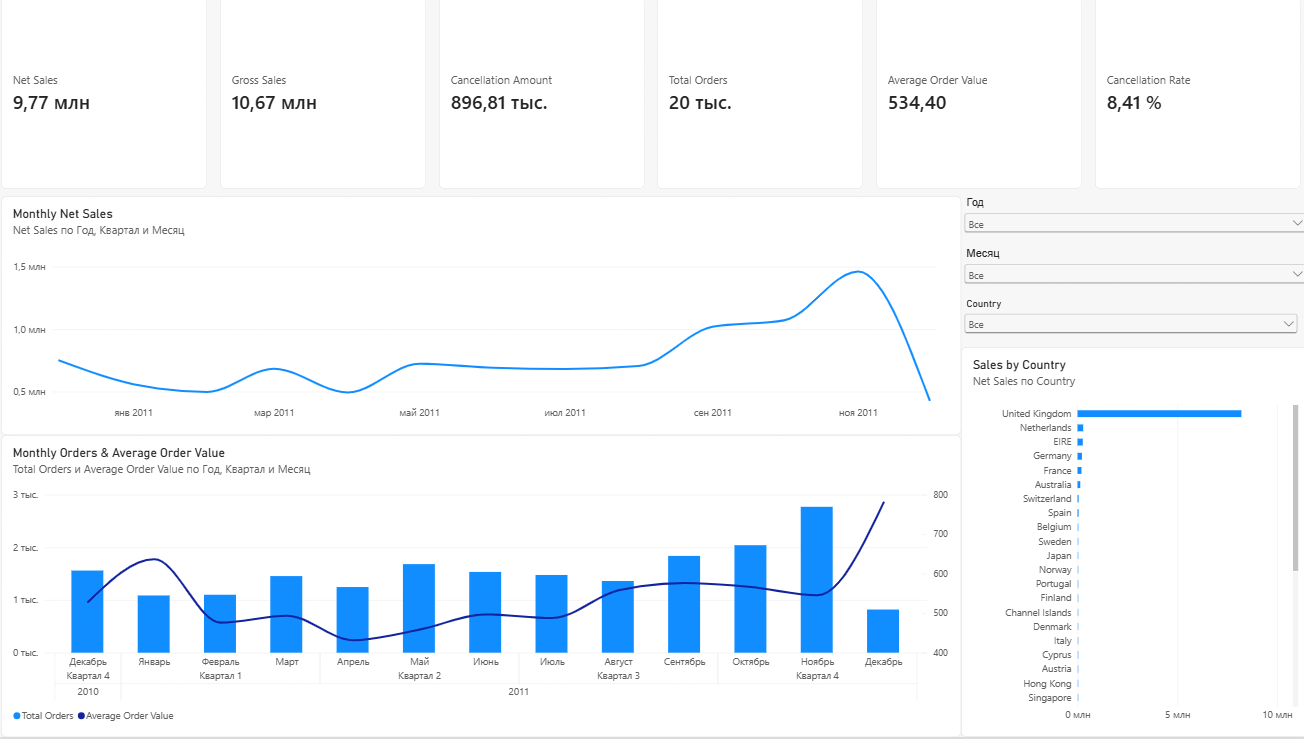

The page's visual inventory and layout, read from the dashboard file:
{"tool":"powerbi","page":{"name":"Sales Overview","canvas":[1920,1080],"ordinal":0},"visuals":[{"type":"cardVisual","fields":{"Data":["Online Retail.Net Sales"]},"box":[10.2,0,300,280.1],"z":0},{"type":"cardVisual","fields":{"Data":["Online Retail.Gross Sales"]},"box":[329.4,0,300,280.1],"z":1000},{"type":"cardVisual","fields":{"Data":["Online Retail.Cancellation Amount"]},"box":[648.7,0,300,280],"z":2000},{"type":"cardVisual","fields":{"Data":["Online Retail.Total Orders"]},"box":[967.9,0,300,280],"z":3000},{"type":"cardVisual","fields":{"Data":["Online Retail.Average Order Value"]},"box":[1287.1,0,300,280.1],"z":4000},{"type":"lineChart","title":"Monthly Net Sales","fields":{"Category":["Online Retail.InvoiceDate.Variation.Иерархия дат.Год","Online Retail.InvoiceDate.Variation.Иерархия дат.Квартал","Online Retail.InvoiceDate.Variation.Иерархия дат.Месяц","Online Retail.InvoiceDate.Variation.Иерархия дат.День"],"Y":["Online Retail.Net Sales"]},"box":[10.2,290.3,1400.6,348.7],"z":5000},{"type":"slicer","fields":{"Values":["Online Retail.InvoiceDate.Variation.Иерархия дат.Год"]},"box":[1410.8,290.3,509.2,74.4],"z":6000},{"type":"barChart","title":"\tSales by Country","fields":{"Category":["Online Retail.Country"],"Y":["Online Retail.Net Sales"]},"box":[1410.8,510.6,509.2,569],"z":7000},{"type":"slicer","fields":{"Values":["Online Retail.Country"]},"box":[1410.8,439.1,496,71.5],"z":8000},{"type":"lineStackedColumnComboChart","title":"\tMonthly Orders & Average Order Value","fields":{"Category":["Online Retail.InvoiceDate.Variation.Иерархия дат.Год","Online Retail.InvoiceDate.Variation.Иерархия дат.Квартал","Online Retail.InvoiceDate.Variation.Иерархия дат.Месяц","Online Retail.InvoiceDate.Variation.Иерархия дат.День"],"Y":["Online Retail.Total Orders"],"Y2":["Online Retail.Average Order Value"]},"box":[10.2,639,1400.6,440.6],"z":9000},{"type":"cardVisual","fields":{"Data":["Online Retail.Cancellation Rate"]},"box":[1606.3,0,300,280.1],"z":10000},{"type":"slicer","fields":{"Values":["Online Retail.InvoiceDate.Variation.Иерархия дат.Месяц"]},"box":[1410.8,364.7,509.2,74.4],"z":11000}]}

Visuals, with their boxes in screenshot pixels (x1, y1, x2, y2), scaled from the page's 1920x1080 canvas onto the 1304x739 screenshot:
cardVisual - Online Retail.Net Sales: Rect(7, 0, 211, 192)
cardVisual - Online Retail.Gross Sales: Rect(224, 0, 427, 192)
cardVisual - Online Retail.Cancellation Amount: Rect(441, 0, 644, 192)
cardVisual - Online Retail.Total Orders: Rect(657, 0, 861, 192)
cardVisual - Online Retail.Average Order Value: Rect(874, 0, 1078, 192)
"Monthly Net Sales" lineChart: Rect(7, 199, 958, 437)
slicer - Online Retail.InvoiceDate.Variation.Иерархия дат.Год: Rect(958, 199, 1303, 250)
"	Sales by Country" barChart: Rect(958, 349, 1303, 738)
slicer - Online Retail.Country: Rect(958, 300, 1295, 349)
"	Monthly Orders & Average Order Value" lineStackedColumnComboChart: Rect(7, 437, 958, 738)
cardVisual - Online Retail.Cancellation Rate: Rect(1091, 0, 1295, 192)
slicer - Online Retail.InvoiceDate.Variation.Иерархия дат.Месяц: Rect(958, 250, 1303, 300)
